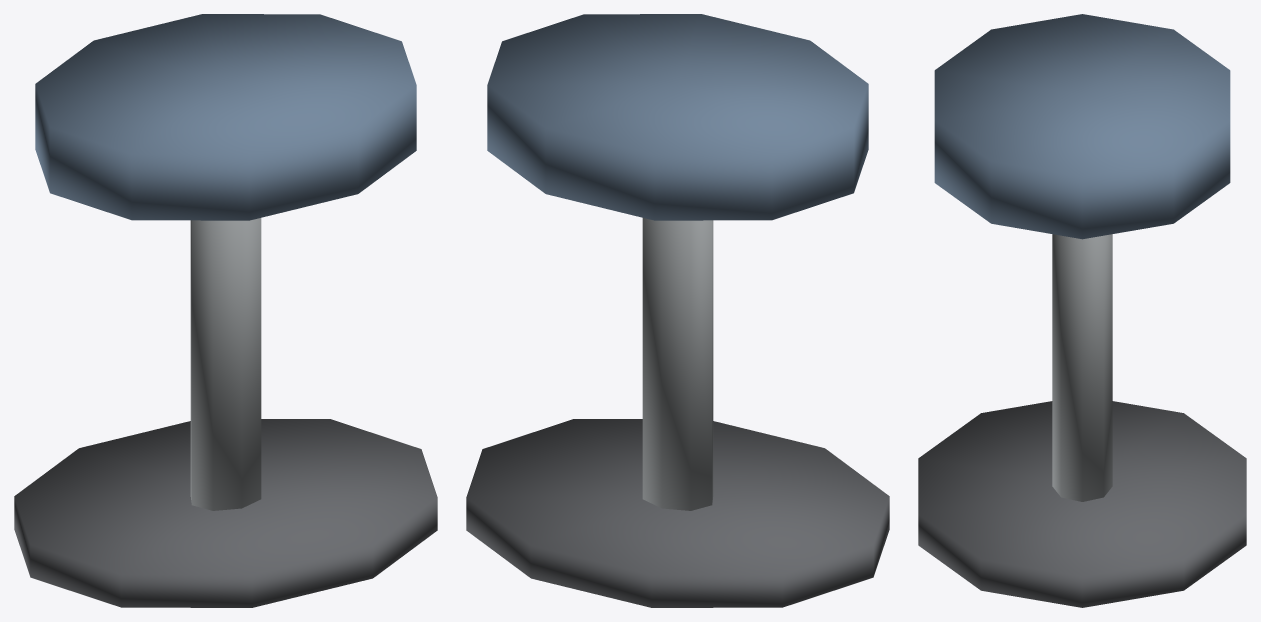
File: lab_stool__wide.glb
The picture shows the model from 3 angles, left to right: view 1: azimuth 30°, elevation 25°; view 2: azimuth 150°, elevation 25°; view 3: azimuth 270°, elevation 25°; orthographic projection. The views are drawn at different scales.
Visible parts, largest first — view 1: world; view 2: world; view 3: world.
Part boxes in pixels (x1=…): world: x1=14, y1=14, x2=437, y2=607; world: x1=466, y1=14, x2=889, y2=607; world: x1=918, y1=14, x2=1246, y2=607.
Bounding box in the file's own units: 0.496 × 0.54 × 0.3804.
